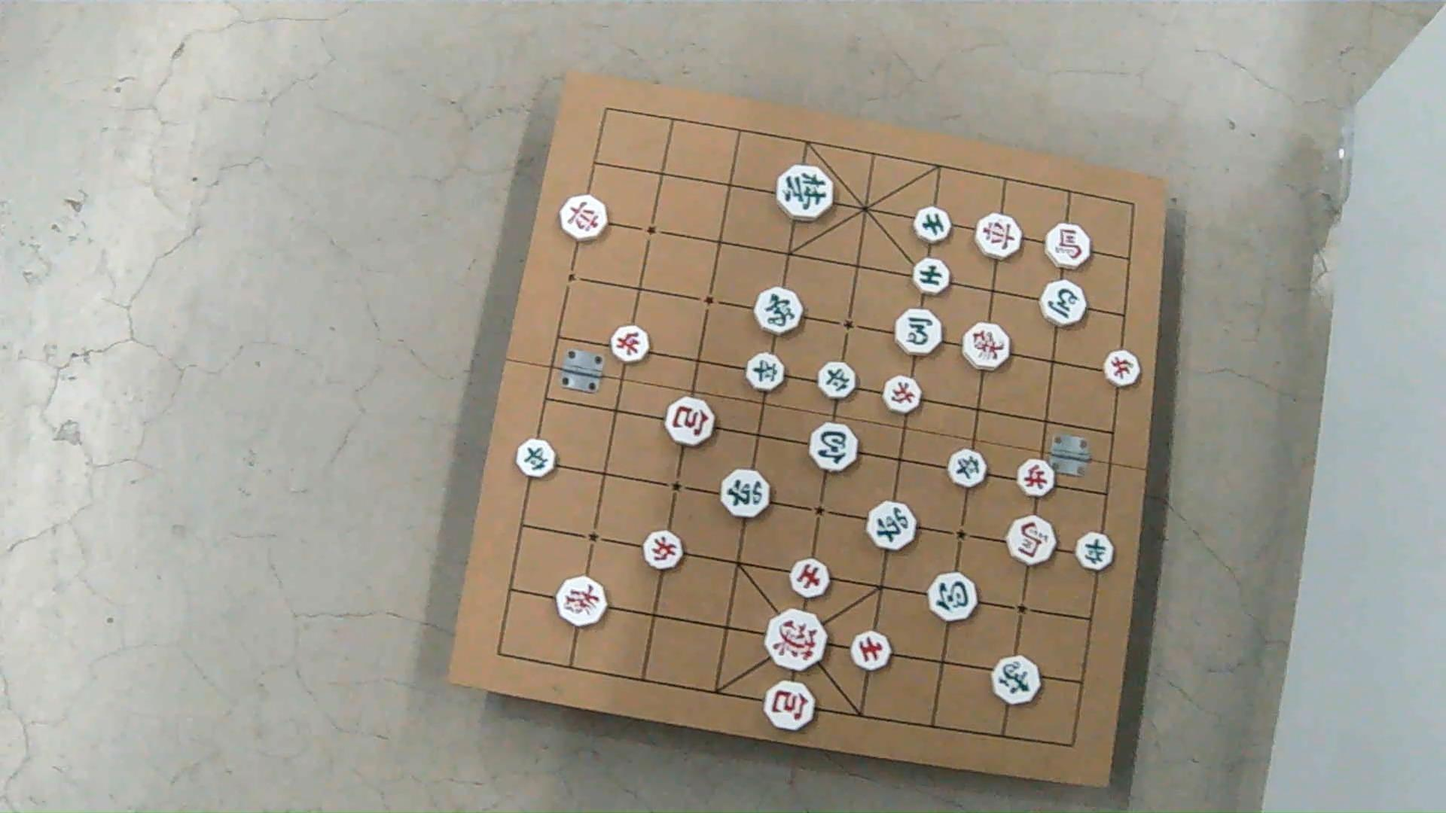cha_green: (865, 503, 915, 553), (722, 467, 772, 517)
cha_red: (560, 194, 607, 241), (978, 214, 1024, 260)
jol_green: (517, 438, 557, 477), (949, 449, 987, 488), (749, 352, 788, 390), (1074, 532, 1112, 571), (817, 361, 856, 397)
jol_red: (642, 531, 682, 571), (612, 325, 650, 364), (1020, 459, 1057, 498), (882, 375, 919, 413), (1104, 351, 1140, 388)
ma_green: (895, 309, 942, 355), (1039, 282, 1084, 328)
ma_red: (1007, 516, 1056, 565), (1043, 223, 1089, 268)
po_green: (929, 571, 978, 620), (809, 425, 857, 473)
po_red: (764, 681, 815, 730), (668, 397, 716, 446)
sa_green: (914, 206, 951, 243), (916, 258, 952, 294)
sa_red: (853, 630, 893, 671), (791, 556, 831, 596)
sang_green: (993, 655, 1042, 704), (756, 288, 805, 336)
sang_red: (557, 577, 606, 626), (963, 324, 1011, 370)
wang_green: (776, 165, 833, 219)
wang_red: (765, 611, 825, 672)
